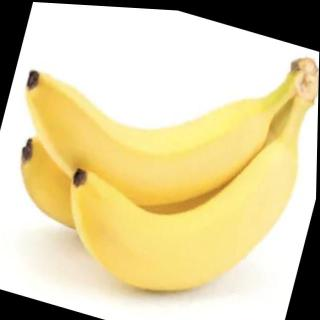banana: (47, 77, 309, 320), (2, 61, 284, 286), (0, 34, 278, 238)
